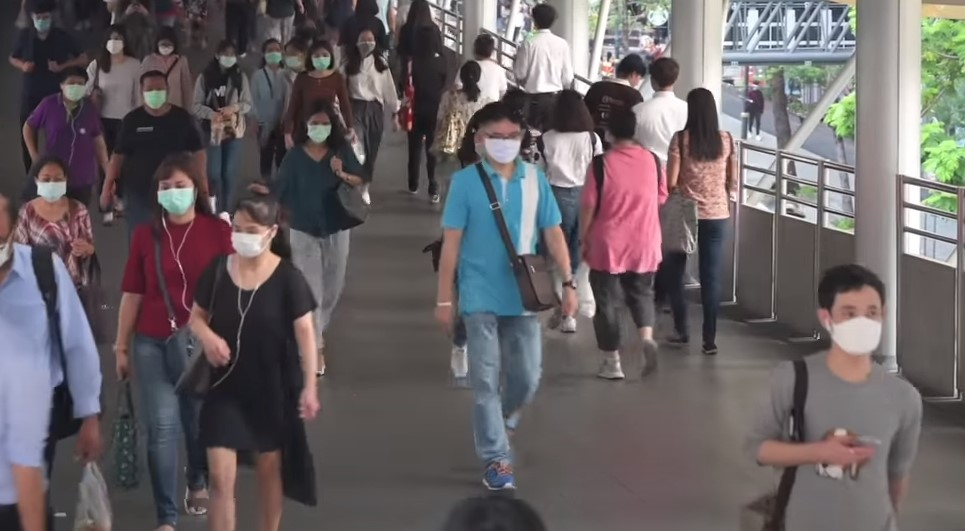face_with_mask: (816, 271, 887, 358), (227, 207, 281, 260), (154, 165, 201, 219), (477, 108, 523, 163), (297, 99, 338, 148), (133, 69, 174, 116), (93, 23, 134, 64), (53, 64, 93, 104), (36, 161, 68, 203), (349, 20, 381, 60), (255, 35, 287, 73), (152, 26, 184, 62), (210, 40, 241, 74), (308, 38, 337, 74), (28, 9, 57, 39), (283, 38, 306, 75)
